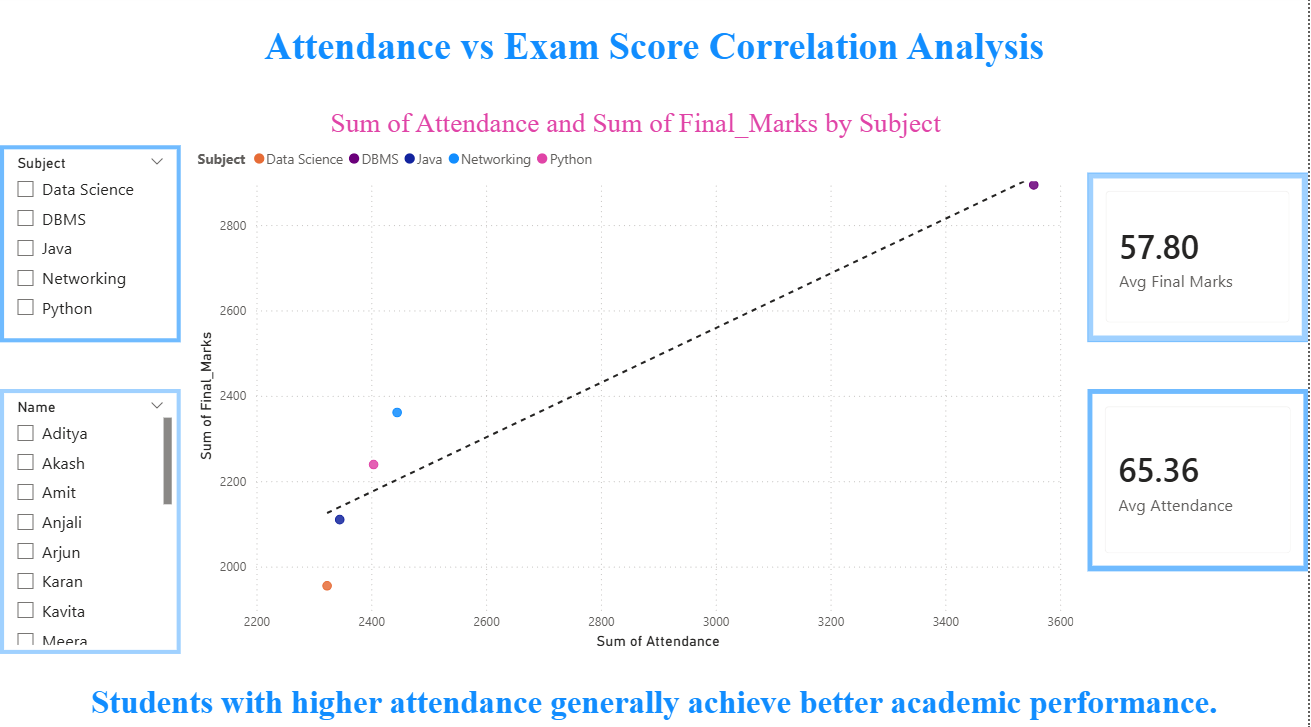

Layout of this report page (visuals, bound fields, positions):
{"tool":"powerbi","page":{"name":"Correlation Analysis","canvas":[1280,720],"ordinal":1},"visuals":[{"type":"scatterChart","fields":{"Series":["student_data.Subject"],"X":["Sum(student_data.Attendance)"],"Y":["Sum(student_data.Final_Marks)"]},"box":[176.7,122.6,868.1,534.5],"z":0},{"type":"textbox","box":[0,24.2,1280,67],"z":1000},{"type":"textbox","box":[0,668.5,1280,51.3],"z":2000},{"type":"slicer","fields":{"Values":["student_data.Subject"]},"box":[0,148.2,176.7,192.4],"z":3000},{"type":"slicer","fields":{"Values":["student_data.Name"]},"box":[0,386.3,176.7,259.4],"z":4000},{"type":"cardVisual","fields":{"Data":["student_data.Avg Final Marks"]},"box":[1063.3,175.3,216.7,165.3],"z":5000},{"type":"cardVisual","fields":{"Data":["student_data.Avg Attendance"]},"box":[1063.3,426.2,216.7,179.6],"z":6000}]}

Visuals, with their boxes in screenshot pixels (x1, y1, x2, y2), scaled from the page's 1280x720 canvas onto the 1311x727 screenshot:
scatterChart - student_data.Subject x Sum(student_data.Attendance): bbox=[181, 124, 1070, 663]
textbox: bbox=[0, 24, 1310, 92]
textbox: bbox=[0, 675, 1310, 726]
slicer - student_data.Subject: bbox=[0, 150, 181, 344]
slicer - student_data.Name: bbox=[0, 390, 181, 652]
cardVisual - student_data.Avg Final Marks: bbox=[1089, 177, 1310, 344]
cardVisual - student_data.Avg Attendance: bbox=[1089, 430, 1310, 612]
